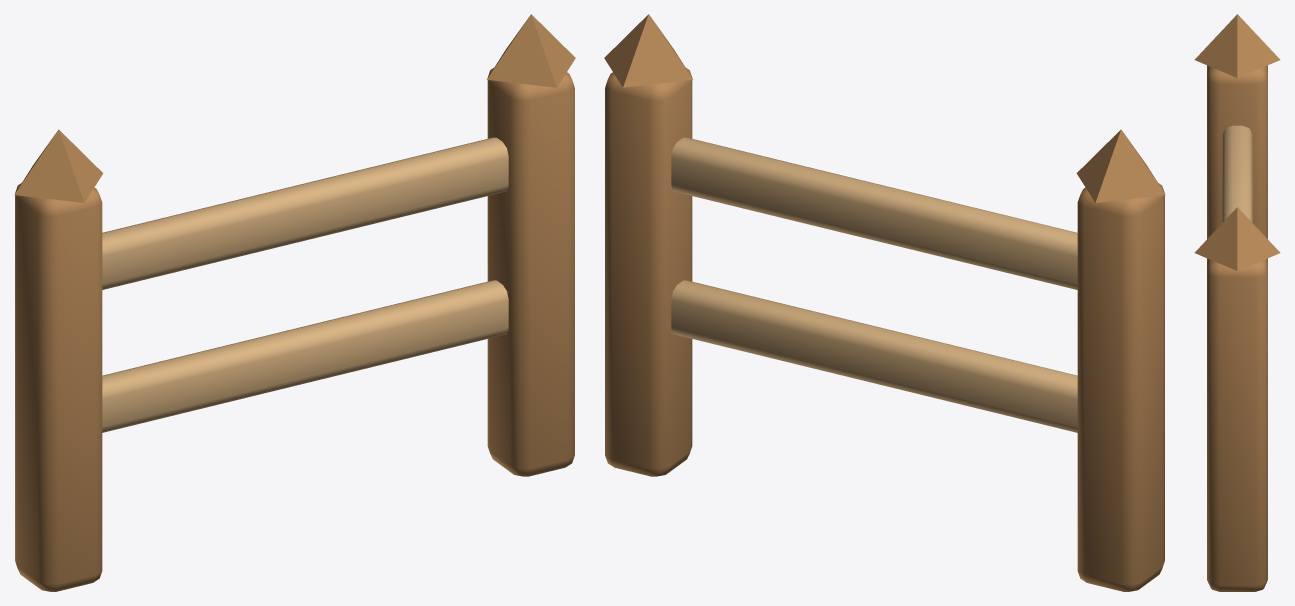
The model's file is fence.glb.
3 views of the same model, side by side, from view 1: azimuth 30°, elevation 25°; view 2: azimuth 150°, elevation 25°; view 3: azimuth 270°, elevation 25° (orthographic). The views are drawn at different scales.
Visible parts, largest first — view 1: fence.001; view 2: fence.001; view 3: fence.001.
Boxes of the visible parts, box(x1,y1,x2,y2) form: fence.001: box(14, 14, 575, 591); fence.001: box(604, 14, 1165, 591); fence.001: box(1194, 14, 1280, 591).
Bounding box in the file's own units: 1.07 × 0.82 × 0.17.
